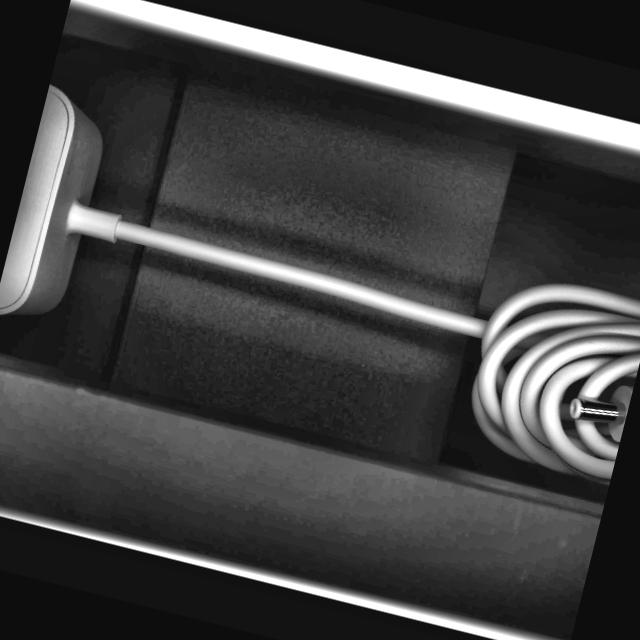Cable: (0, 80, 640, 491)
